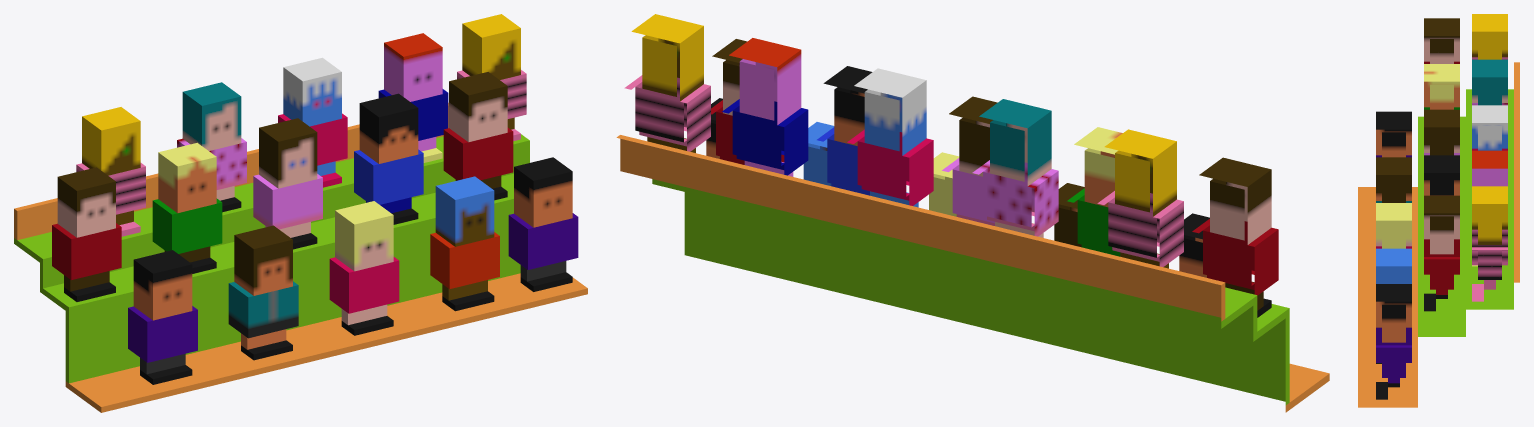
Rendered from barra_left_end.fbx.
3 renders of one model, left to right at view 1: azimuth 30°, elevation 25°; view 2: azimuth 150°, elevation 25°; view 3: azimuth 270°, elevation 25°, orthographic. The views are drawn at different scales.
Parts seen in each view (by area): view 1: Matrix_112, _713, _718, _715, _705, _704, _706, _711, _707, _710, _716, _709 (+4 smaller); view 2: Matrix_112, _706, _714, _712, _709, _708, _717, _707, _711, _710, _716, _715 (+3 smaller); view 3: Matrix_112, _716, _717, _718, _710, _709, _705, _713, _712, _708, _707, _706 (+4 smaller).
Boxes of the visible parts, <box> form: Matrix_112: <box>14,102,587,412</box>; _713: <box>329,201,399,335</box>; _718: <box>508,157,578,291</box>; _715: <box>430,176,499,311</box>; _705: <box>128,250,197,384</box>; _704: <box>228,225,298,360</box>; _706: <box>52,167,121,301</box>; _711: <box>354,93,423,224</box>; _707: <box>152,142,222,273</box>; _710: <box>253,118,322,249</box>; _716: <box>443,72,513,200</box>; _709: <box>177,82,246,212</box>; Matrix_112: <box>616,135,1329,412</box>; _706: <box>1192,157,1278,317</box>; _714: <box>722,38,808,176</box>; _712: <box>847,68,933,207</box>; _709: <box>972,99,1058,237</box>; _708: <box>1097,129,1183,268</box>; _717: <box>624,14,710,152</box>; _707: <box>1067,127,1122,256</box>; _711: <box>817,66,872,195</box>; _710: <box>942,96,997,225</box>; _716: <box>711,39,784,164</box>; _715: <box>803,122,834,185</box>; Matrix_112: <box>1358,62,1519,407</box>; _716: <box>1424,195,1459,311</box>; _717: <box>1472,186,1507,301</box>; _718: <box>1376,284,1411,399</box>; _710: <box>1424,109,1459,155</box>; _709: <box>1472,59,1507,105</box>; _705: <box>1376,111,1411,157</box>; _713: <box>1376,203,1411,248</box>; _712: <box>1472,105,1507,150</box>; _708: <box>1472,14,1507,59</box>; _707: <box>1424,64,1459,109</box>; _706: <box>1424,18,1459,63</box>.
Bounding box in the file's own units: 87 × 38 × 27.
